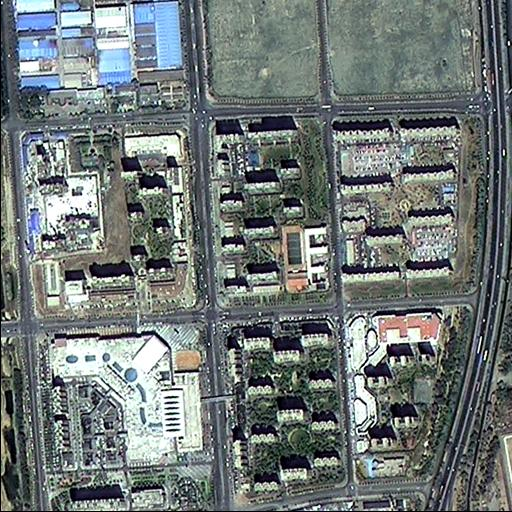school: (277, 222, 332, 297)
